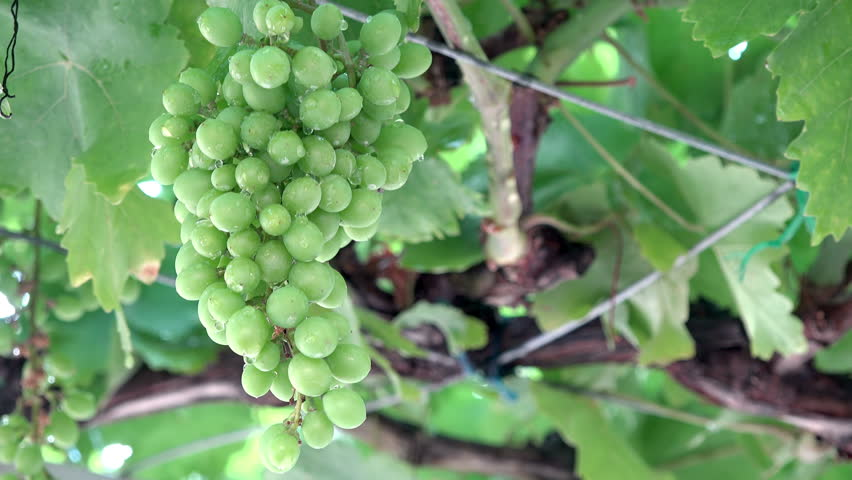grapes: (168, 16, 431, 434)
